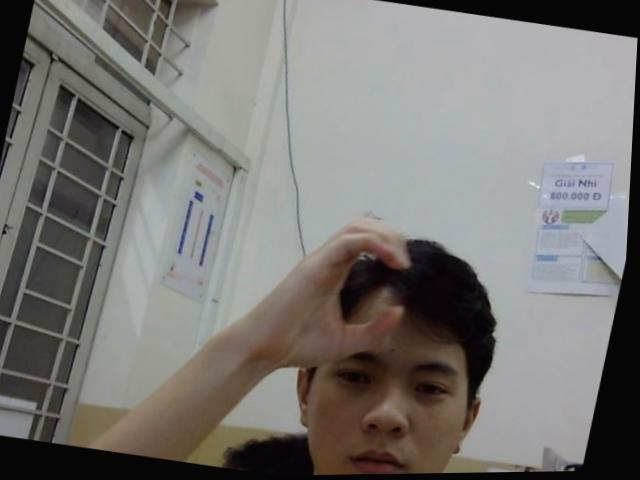C: (255, 203, 425, 384)
